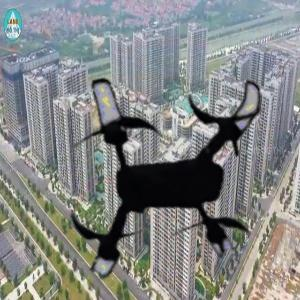drone: (37, 36, 290, 289)
